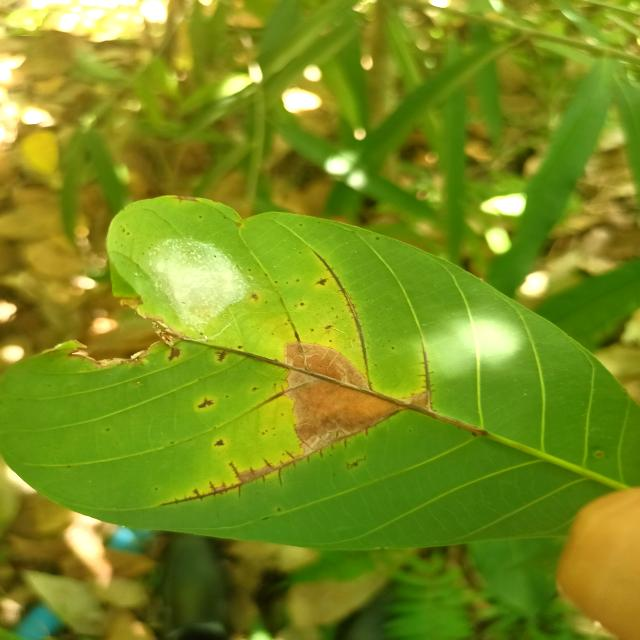Corynespora: (158, 444, 323, 506), (312, 250, 372, 385), (416, 345, 436, 394), (198, 398, 215, 409), (313, 277, 329, 286), (215, 351, 227, 362)
Leaf-Blight: (284, 342, 404, 448)
